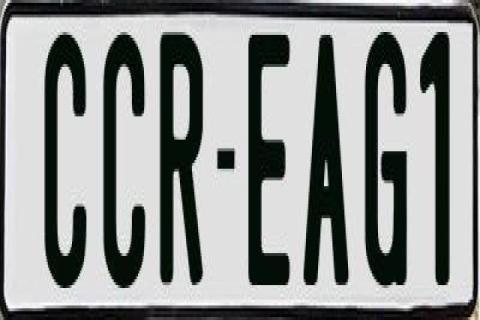0: (418, 27, 450, 297)
A: (302, 35, 348, 297)
C: (104, 32, 148, 294), (45, 29, 89, 285)
E: (246, 29, 292, 294)
G: (361, 23, 410, 297)
R: (158, 23, 206, 276)
